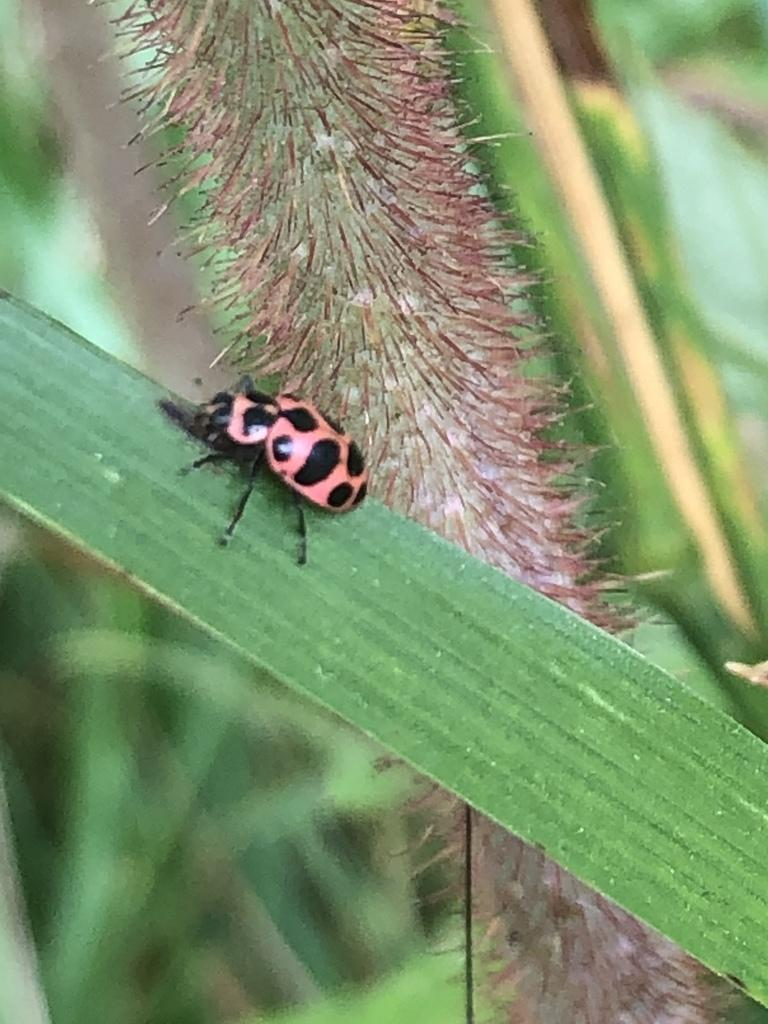ladybug: (156, 376, 379, 571)
